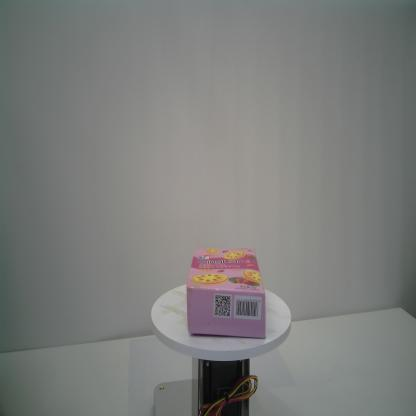Dessert: (186, 244, 268, 341)
